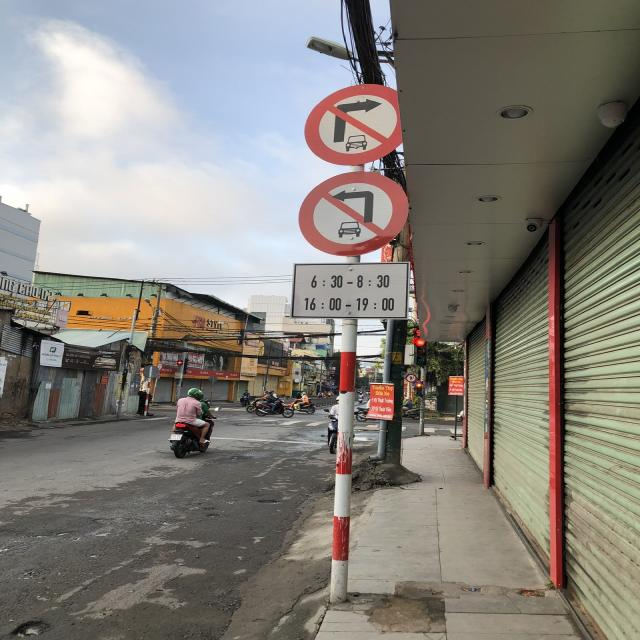Bien bao cam xe o to re phai: (297, 77, 405, 166)
Bien bao cam xe o to re trai: (294, 167, 414, 261)
